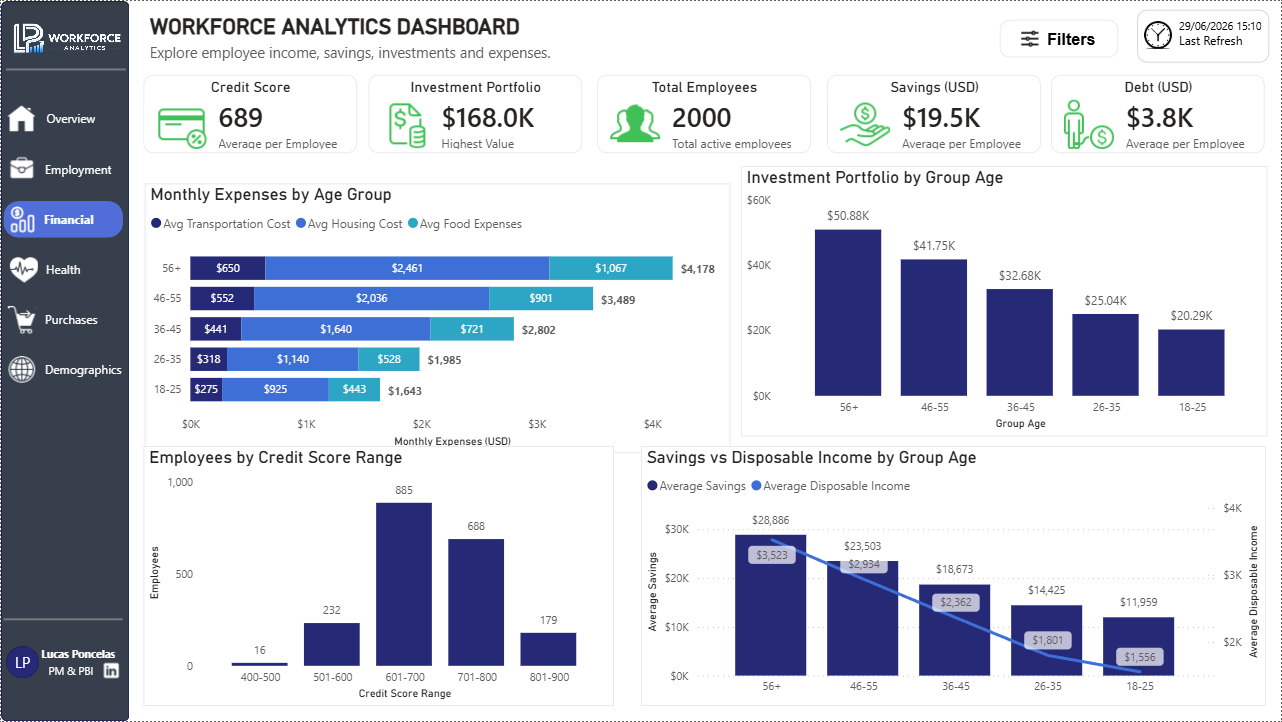

Layout of this report page (visuals, bound fields, positions):
{"tool":"powerbi","page":{"name":"Financial","canvas":[1280,720],"ordinal":6},"visuals":[{"type":"shape","title":"FRM_Panel lateral","box":[0,0,128.4,720.2],"z":0},{"type":"cardVisual","title":"Credit Score","fields":{"Data":["Avg(4_financial.credit_score)"]},"box":[143.1,73.4,213.8,78.7],"z":0,"group":"g4"},{"type":"shape","title":"Guion abajo","box":[2.5,605,119.2,26.6],"z":0,"group":"g2"},{"type":"shape","title":"LP","box":[4.5,645,33.1,32.2],"z":0,"group":"g1"},{"type":"cardVisual","title":"Investment Portfolio","fields":{"Data":["Max(4_financial.investment_portfolio_value)"]},"box":[368.2,73.4,213.8,78.7],"z":1000,"group":"g4"},{"type":"actionButton","title":"BTN_Demographics","box":[2.1,350.3,119.6,36.7],"z":1000,"group":"g2"},{"type":"group","id":"g1","title":"Firma","box":[4.5,645,120.9,36.7],"z":1000},{"type":"actionButton","title":"Lucas Poncelas","box":[36.2,645.9,89.3,17.1],"z":1000,"group":"g1"},{"type":"cardVisual","title":"Debt (USD)","fields":{"Data":["1_Medidas calculadas.FIN7_Avg Debt"]},"box":[1050.6,73.4,213.8,78.7],"z":2000,"group":"g4"},{"type":"actionButton","title":"BTN_Purchases","box":[2.1,300.2,119.6,36.7],"z":2000,"group":"g2"},{"type":"actionButton","title":"Data Analyst","box":[29.8,662.9,79.7,16.1],"z":2000,"group":"g1"},{"type":"cardVisual","title":"Savings (USD)","fields":{"Data":["1_Medidas calculadas.FIN2_Avg Savings"]},"box":[827.2,73.4,213.8,78.7],"z":3000,"group":"g4"},{"type":"actionButton","title":"BTN_Health","box":[2.1,250,119.6,36.7],"z":3000,"group":"g2"},{"type":"actionButton","title":"BTN_Linkdn","box":[97.4,657.2,25.7,24.5],"z":3000,"group":"g1"},{"type":"cardVisual","title":"Total Employees","fields":{"Data":["1_Medidas calculadas.Employees"]},"box":[596.9,73.4,213.8,78.7],"z":4000,"group":"g4"},{"type":"actionButton","title":"BTN_Financial","box":[2.1,199.9,119.6,36.7],"z":4000,"group":"g2"},{"type":"actionButton","title":"BTN_Employment","box":[2.1,149.8,119.6,36.7],"z":5000,"group":"g2"},{"type":"barChart","title":"Monthly Expenses by Age Group","fields":{"Category":["7_users.Grupo Edad"],"Y":["Avg(4_financial.transportation_cost)","Avg(4_financial.housing_cost)","Avg(4_financial.food_expenses)"]},"box":[143.2,183,585.3,270],"z":5000},{"type":"actionButton","title":"BTN_Overview","box":[1.4,100.3,119.6,36],"z":6000,"group":"g2"},{"type":"group","id":"g2","title":"Principal Panel","box":[-0.6,11.2,129.6,620.4],"z":7000},{"type":"image","title":"IMG_Logo","box":[-0.6,11.2,129.6,64.8],"z":7000,"group":"g2"},{"type":"shape","title":"Guion abajo","box":[4.3,54.7,119.8,26.9],"z":8000,"group":"g2"},{"type":"group","id":"g3","title":"Filter Panel comp","box":[0,70.7,228,648.2],"z":8000},{"type":"cardVisual","title":"BTN_Last refresh","fields":{"Data":["Min(last refresh.LastRefresh)"]},"box":[1135.8,8.2,131.9,53.2],"z":9000},{"type":"actionButton","title":"BTN_Filters","box":[998.8,18.4,118.6,37.8],"z":10000},{"type":"textbox","title":"WORKFORCE ANALYTICS DASHBOARD","box":[144.2,12.3,450.9,52.1],"z":11000},{"type":"columnChart","title":"Investment Portfolio by Group Age","fields":{"Category":["7_users.Grupo Edad"],"Y":["Avg(4_financial.investment_portfolio_value)"]},"box":[740.1,165,526.6,270],"z":12000},{"type":"columnChart","fields":{"Y":["1_Medidas calculadas.USU1_Employees"],"Category":["4_financial.Credit Score Range"]},"box":[143.1,445,470,260],"z":13000},{"type":"lineStackedColumnComboChart","title":"Savings vs Disposable Income by Group Age","fields":{"Category":["7_users.Grupo Edad"],"Y":["1_Medidas calculadas.FIN2_Avg Savings"],"Y2":["1_Medidas calculadas.FIN4_Avg Disposable Income"]},"box":[640,445,624.7,260],"z":14000},{"type":"group","id":"g4","title":"Marcadores","box":[143.1,73.4,1121.3,79.5],"z":14500}]}

Visuals, with their boxes on the page's 1280x720 design canvas (x1, y1, x2, y2). These are canvas units, not pixel positions in the 1282x722 screenshot, which may show the page scaled, cropped or inside an application window:
"FRM_Panel lateral" shape: box=[0, 0, 128, 720]
"Credit Score" cardVisual: box=[143, 73, 357, 152]
"Guion abajo" shape: box=[2, 605, 122, 632]
"LP" shape: box=[4, 645, 38, 677]
"Investment Portfolio" cardVisual: box=[368, 73, 582, 152]
"BTN_Demographics" actionButton: box=[2, 350, 122, 387]
"Firma" group: box=[4, 645, 125, 682]
"Lucas Poncelas" actionButton: box=[36, 646, 126, 663]
"Debt (USD)" cardVisual: box=[1051, 73, 1264, 152]
"BTN_Purchases" actionButton: box=[2, 300, 122, 337]
"Data Analyst" actionButton: box=[30, 663, 110, 679]
"Savings (USD)" cardVisual: box=[827, 73, 1041, 152]
"BTN_Health" actionButton: box=[2, 250, 122, 287]
"BTN_Linkdn" actionButton: box=[97, 657, 123, 682]
"Total Employees" cardVisual: box=[597, 73, 811, 152]
"BTN_Financial" actionButton: box=[2, 200, 122, 237]
"BTN_Employment" actionButton: box=[2, 150, 122, 186]
"Monthly Expenses by Age Group" barChart: box=[143, 183, 728, 453]
"BTN_Overview" actionButton: box=[1, 100, 121, 136]
"Principal Panel" group: box=[-1, 11, 129, 632]
"IMG_Logo" image: box=[-1, 11, 129, 76]
"Guion abajo" shape: box=[4, 55, 124, 82]
"Filter Panel comp" group: box=[0, 71, 228, 719]
"BTN_Last refresh" cardVisual: box=[1136, 8, 1268, 61]
"BTN_Filters" actionButton: box=[999, 18, 1117, 56]
"WORKFORCE ANALYTICS DASHBOARD" textbox: box=[144, 12, 595, 64]
"Investment Portfolio by Group Age" columnChart: box=[740, 165, 1267, 435]
columnChart - 1_Medidas calculadas.USU1_Employees x 4_financial.Credit Score Range: box=[143, 445, 613, 705]
"Savings vs Disposable Income by Group Age" lineStackedColumnComboChart: box=[640, 445, 1265, 705]
"Marcadores" group: box=[143, 73, 1264, 153]
